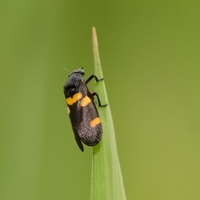insect: (64, 69, 101, 150)
